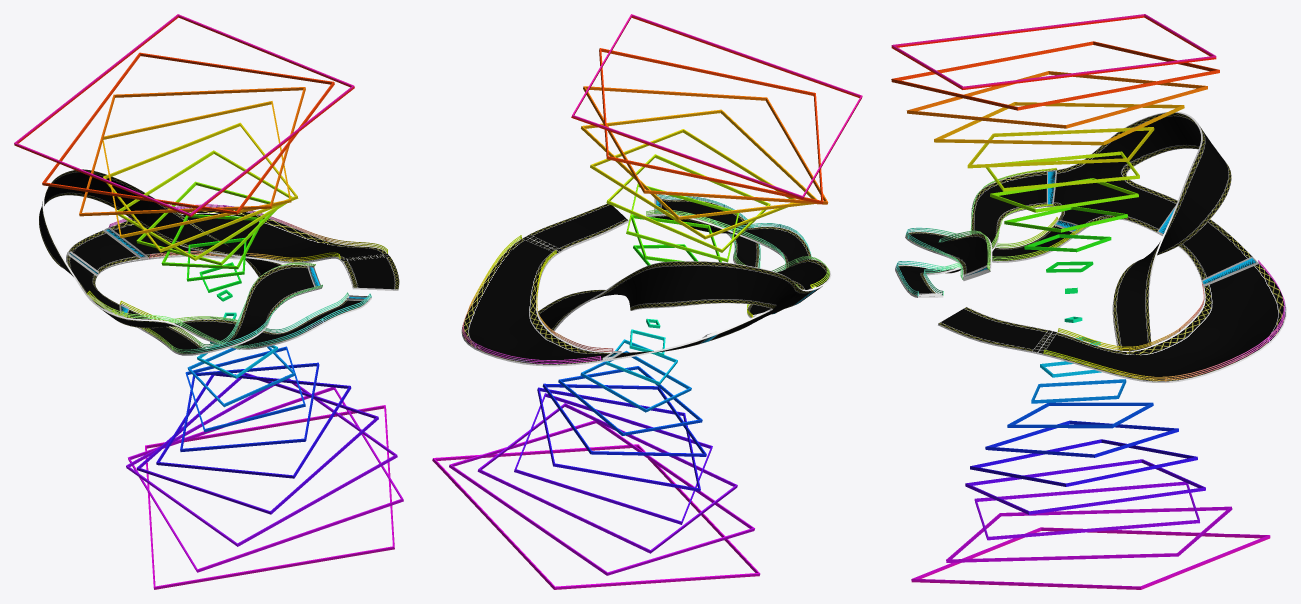
3 views of the same model, side by side, from view 1: azimuth 30°, elevation 25°; view 2: azimuth 150°, elevation 25°; view 3: azimuth 270°, elevation 25° (orthographic). The views are drawn at different scales.
Visible parts, largest first — view 1: circle_obj_ring, circle_road, circle_wall, circle_frare; view 2: circle_obj_ring, circle_road, circle_wall; view 3: circle_road, circle_obj_ring, circle_wall, circle_road_branch, circle_frare, circle_boost.
Part boxes in pixels (x1,y1,x2,y2): circle_obj_ring: (14, 14, 403, 589); circle_road: (39, 168, 399, 355); circle_wall: (87, 204, 387, 353); circle_frare: (68, 227, 369, 316); circle_obj_ring: (432, 14, 862, 589); circle_road: (461, 198, 831, 366); circle_wall: (462, 194, 829, 363); circle_road: (895, 111, 1286, 382); circle_obj_ring: (891, 14, 1270, 589); circle_wall: (895, 168, 1285, 381); circle_road_branch: (1059, 158, 1134, 221); circle_frare: (916, 170, 1257, 296); circle_boost: (965, 171, 1255, 283).
Bounding box in the file's own units: 49917 × 63266 × 42768.
7 materials, 7 textured.
